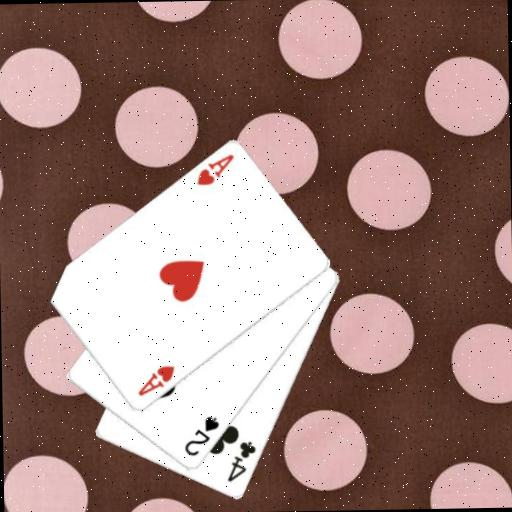2S: (180, 413, 221, 459)
4C: (224, 439, 259, 485)
AH: (193, 151, 236, 188), (134, 363, 177, 399)
